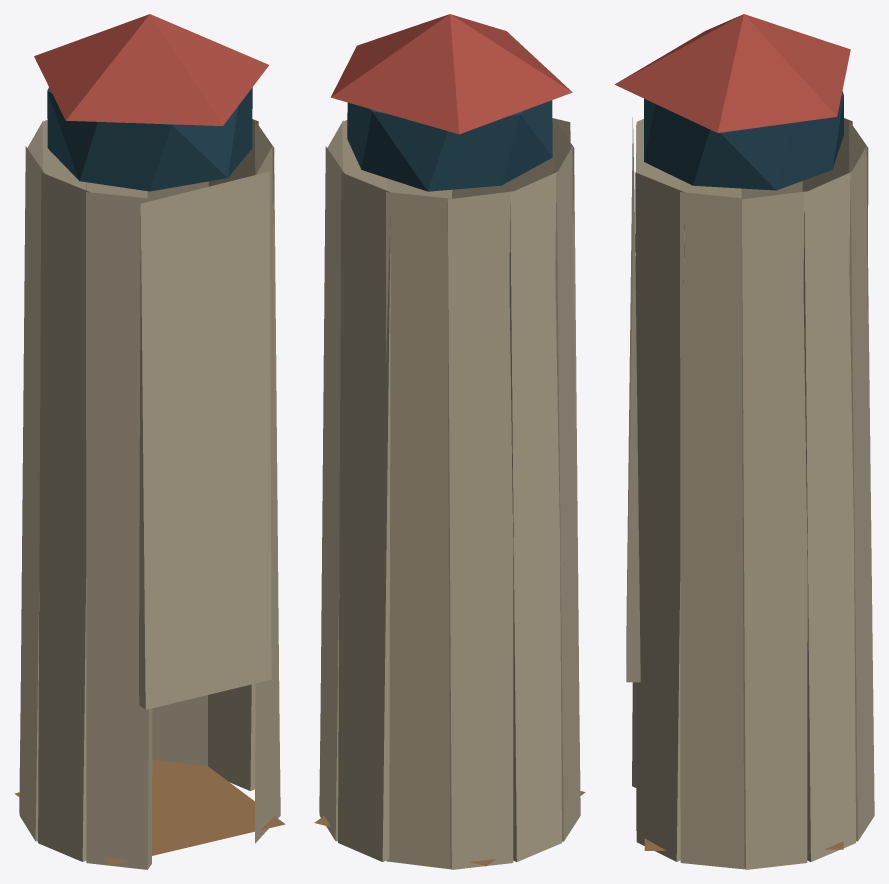
Rendered from harbor-lighthouse.lod2.glb.
The picture shows the model from 3 angles, left to right: view 1: azimuth 30°, elevation 25°; view 2: azimuth 150°, elevation 25°; view 3: azimuth 270°, elevation 25°; orthographic projection.
Parts seen in each view (by area): view 1: harbor-lighthouse__body, harbor-lighthouse__front-wall, harbor-lighthouse__roof; view 2: harbor-lighthouse__body, harbor-lighthouse__roof, harbor-lighthouse__front-wall; view 3: harbor-lighthouse__body, harbor-lighthouse__roof, harbor-lighthouse__front-wall.
Boxes of the visible parts, x1=… form: harbor-lighthouse__body: x1=14, y1=87, x2=285, y2=869; harbor-lighthouse__front-wall: x1=139, y1=171, x2=271, y2=709; harbor-lighthouse__roof: x1=34, y1=14, x2=268, y2=125; harbor-lighthouse__body: x1=314, y1=100, x2=585, y2=869; harbor-lighthouse__roof: x1=330, y1=14, x2=572, y2=134; harbor-lighthouse__front-wall: x1=452, y1=118, x2=570, y2=198; harbor-lighthouse__body: x1=632, y1=91, x2=874, y2=869; harbor-lighthouse__roof: x1=614, y1=14, x2=850, y2=132; harbor-lighthouse__front-wall: x1=626, y1=117, x2=640, y2=682.
Size of the model in its own units: 3.19 by 10.83 by 3.18.
